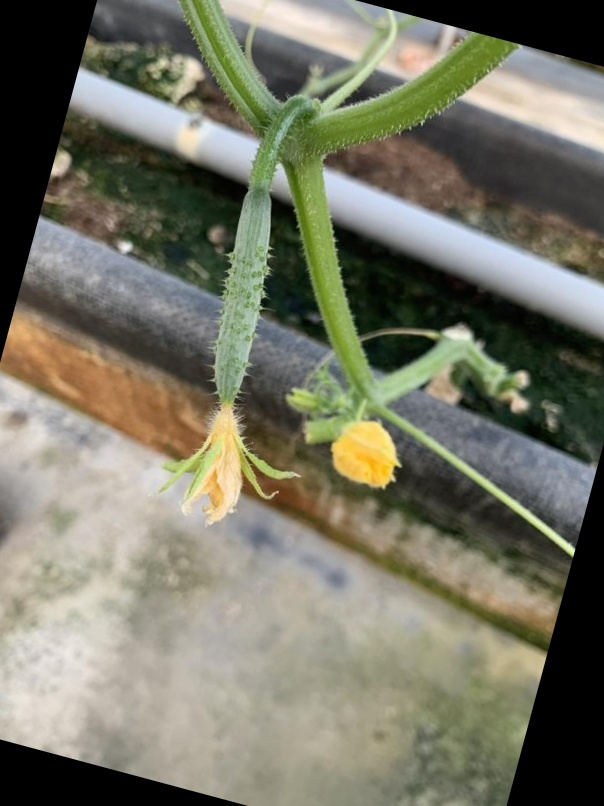bear: (149, 176, 297, 532)
bud: (321, 423, 401, 491)
